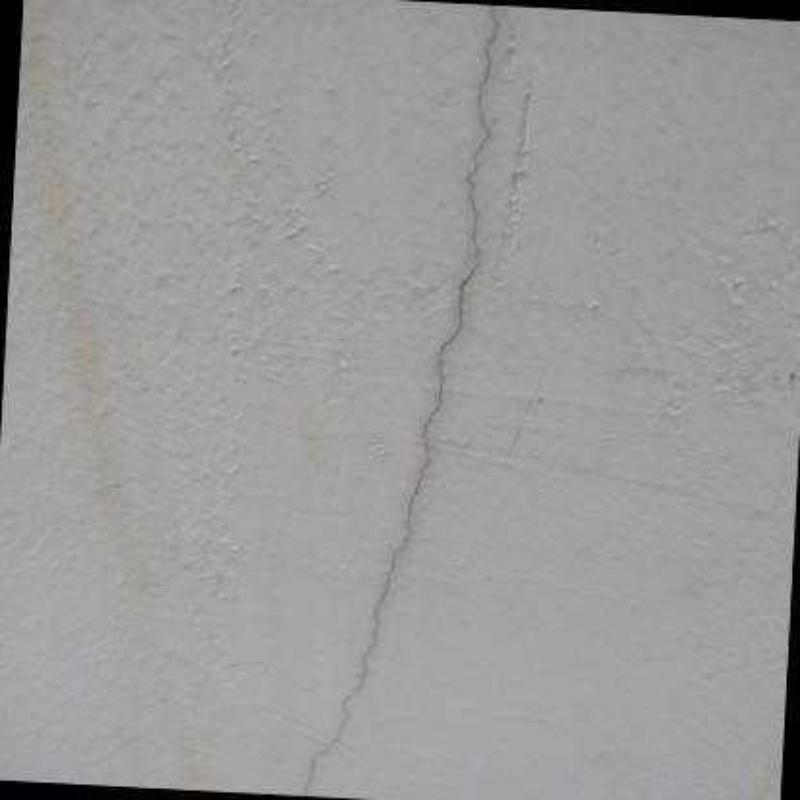pothole: (301, 5, 505, 797)
